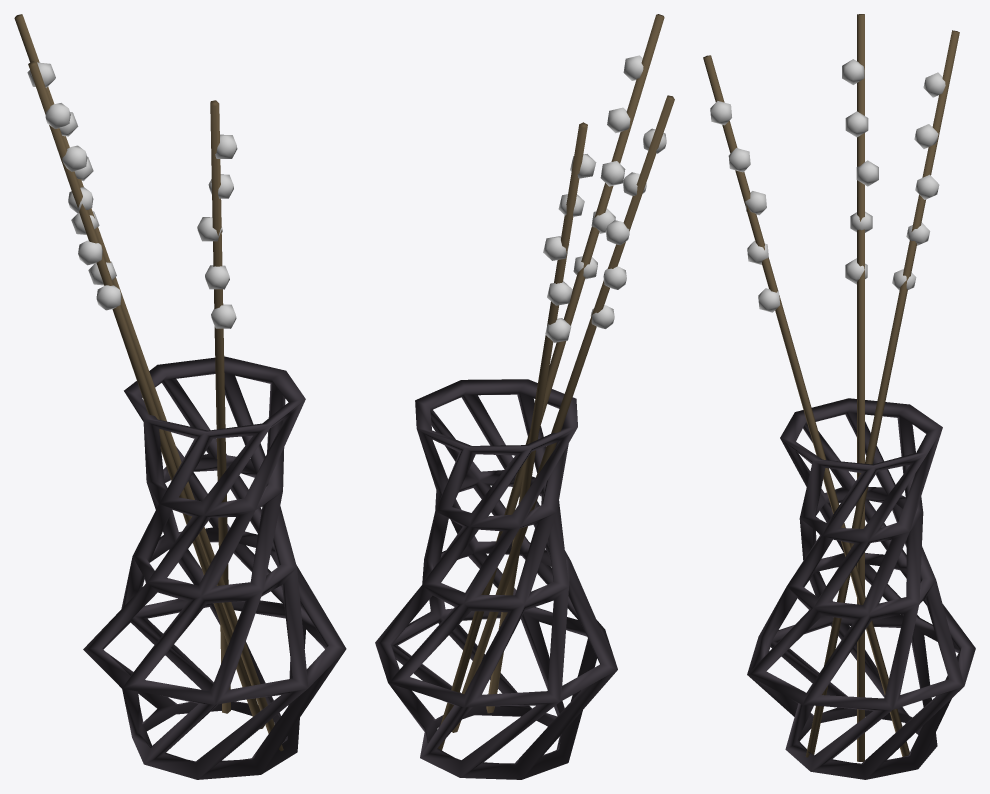
File: PlantDecortive1.glb
3 views of the same model, side by side, from view 1: azimuth 30°, elevation 25°; view 2: azimuth 150°, elevation 25°; view 3: azimuth 270°, elevation 25° (orthographic). The views are drawn at different scales.
Visible parts, largest first — view 1: PlantDecortive1; view 2: PlantDecortive1; view 3: PlantDecortive1.
Boxes of the visible parts, x1,y1,x2,y2 form: PlantDecortive1: (14,14,346,779); PlantDecortive1: (375,14,674,779); PlantDecortive1: (703,14,975,779).
Bounding box in the file's own units: 0.6153 × 1.44 × 0.545.
Materials: 1 (1 with a texture image).
